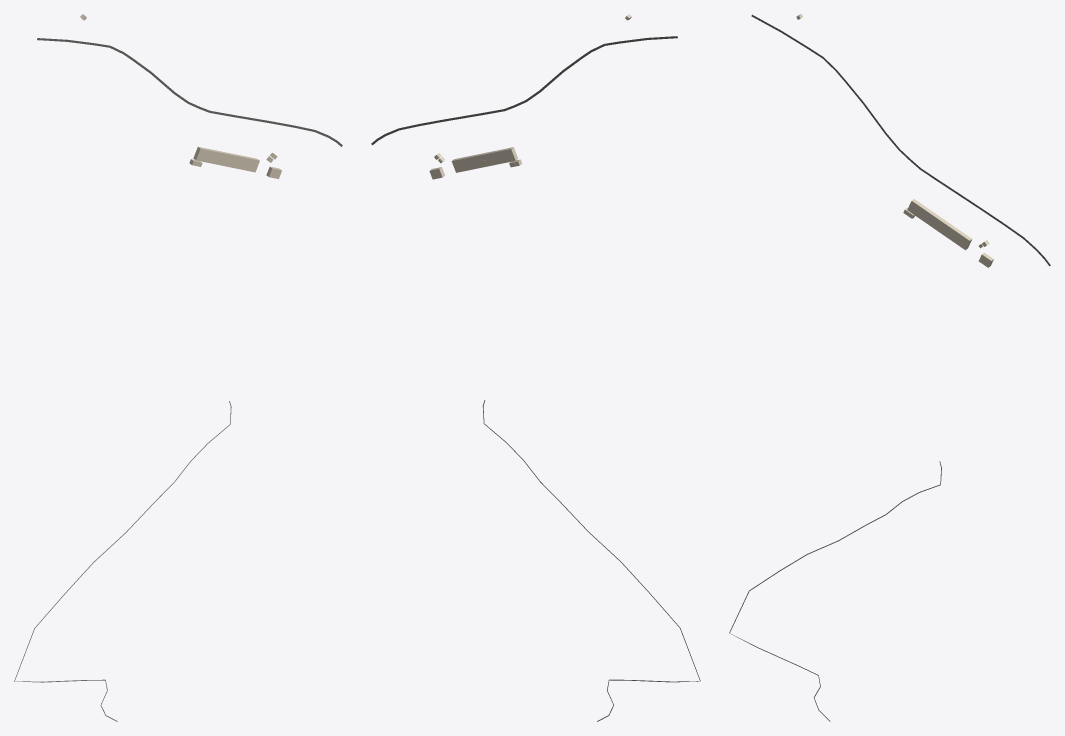
Rendered from historic-palestine-12_36_3544_3308.glb.
The picture shows the model from 3 angles, left to right: view 1: azimuth 30°, elevation 25°; view 2: azimuth 150°, elevation 25°; view 3: azimuth 330°, elevation 25°; orthographic projection. The views are drawn at different scales.
Visible parts, largest first — view 1: Road, Building_.004; view 2: Road, Building_.004, Road .001; view 3: Building_.004, Road.
Part boxes in pixels (x1,y1,x2,y2): Road: [37, 38, 342, 146]; Building_.004: [193, 146, 259, 172]; Road: [371, 36, 677, 145]; Building_.004: [451, 147, 518, 172]; Road .001: [540, 481, 700, 721]; Building_.004: [907, 199, 972, 250]; Road: [751, 14, 1050, 266].
Bounding box in the file's own units: 534 × 1107 × 8.7.
